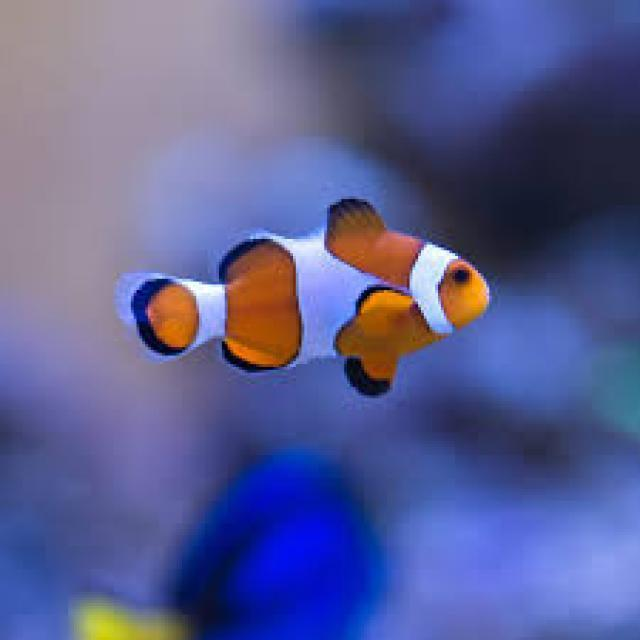ClownFish: (124, 194, 490, 404)
